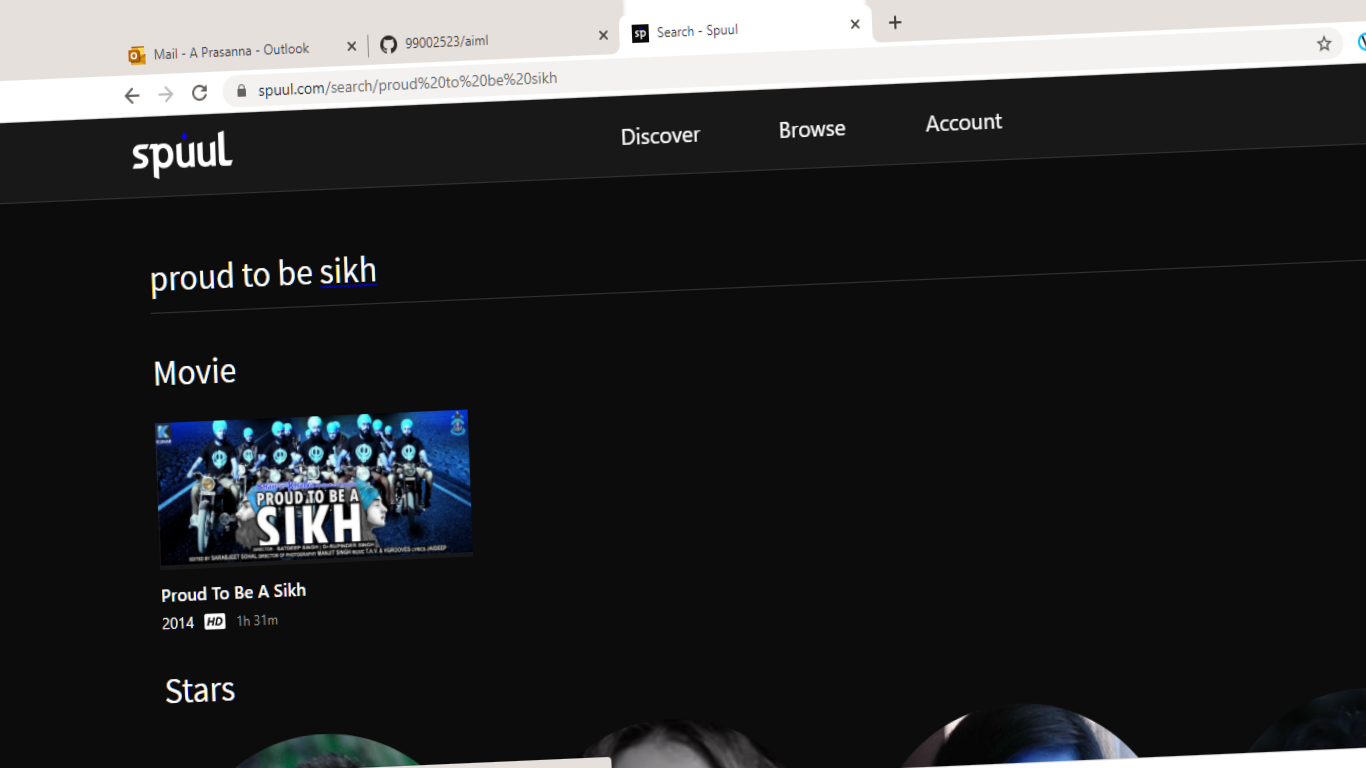myaccountbutton: (925, 94, 1026, 145)
resultsfound: (141, 349, 326, 403)
searchtextbox: (140, 248, 429, 300)
